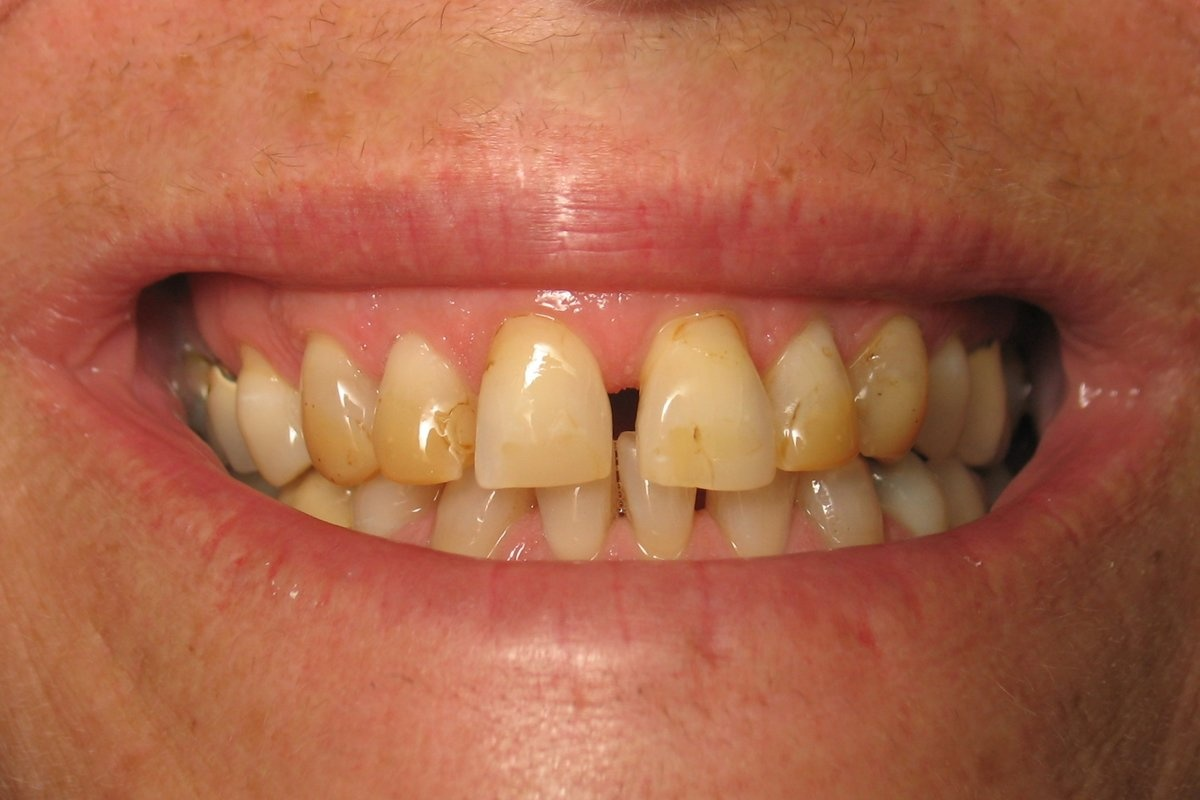UL1BC_healthy: (931, 341, 971, 462)
UL2BC_healthy: (975, 348, 1014, 461)
ULCI_decay: (635, 316, 783, 490)
ULC_healthy: (856, 319, 930, 461)
ULLI_decay: (763, 323, 860, 474)
UR1BC_healthy: (226, 348, 308, 490)
URCI_healthy: (476, 315, 618, 492)
URC_healthy: (301, 333, 376, 480)
URLI_decay: (376, 339, 474, 487)
